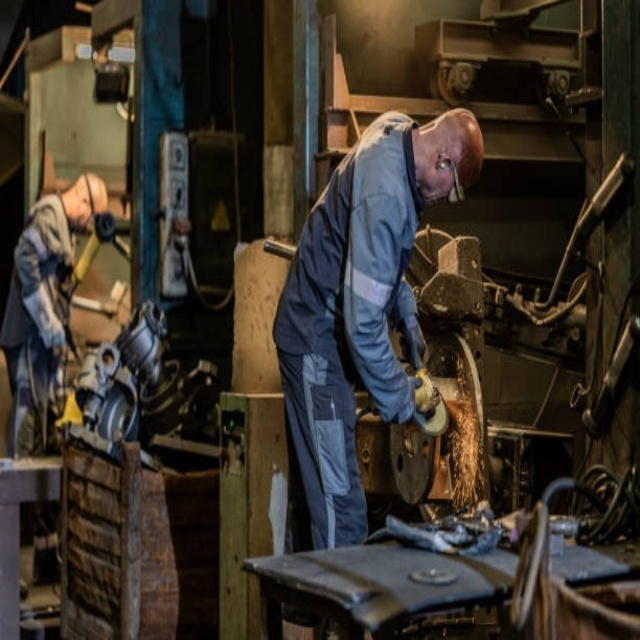Gafas: (81, 171, 105, 241), (443, 158, 465, 204)
Guantes: (19, 281, 68, 356)
Sin_guantes: (396, 311, 431, 373)
